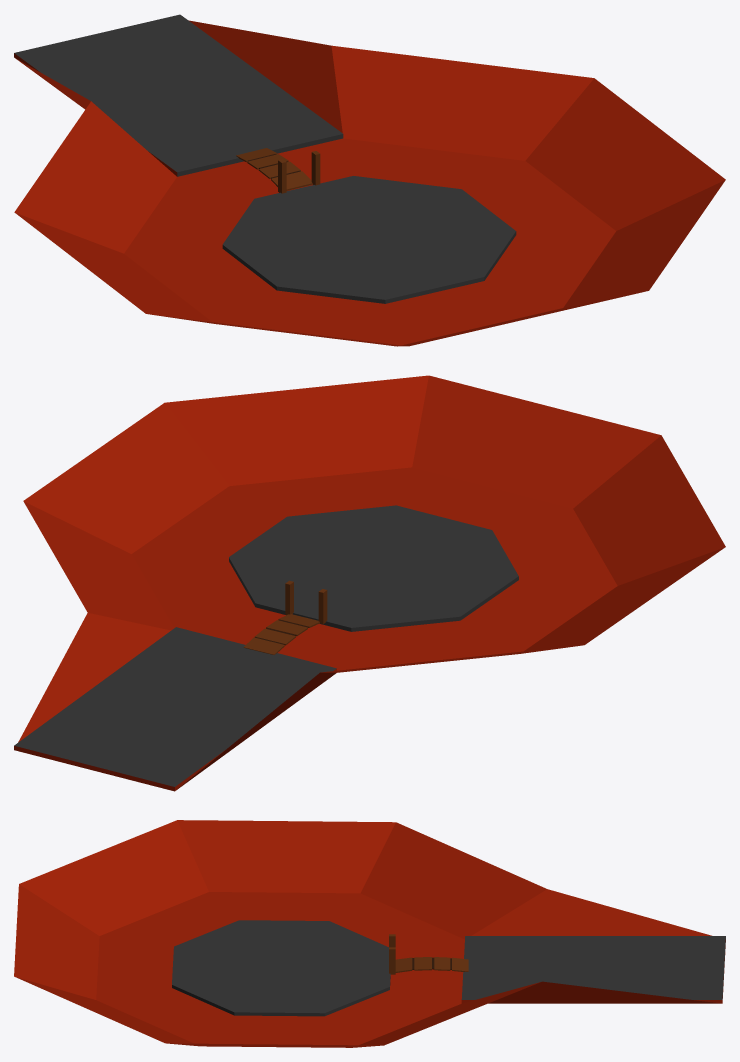
File: BossMap.fbx
The picture shows the model from 3 angles, top to bottom: view 1: azimuth 30°, elevation 25°; view 2: azimuth 150°, elevation 25°; view 3: azimuth 270°, elevation 25°; orthographic projection. The views are drawn at different scales.
Visible parts, largest first — view 1: Circle.001, Circle, Cube.001; view 2: Circle.001, Circle, Cube.001; view 3: Circle.001, Circle, Cube.001.
Boxes of the visible parts, box(x1,y1,x2,y2) form: Circle.001: box(14, 14, 725, 346); Circle: box(222, 176, 516, 303); Cube.001: box(236, 148, 320, 193); Circle.001: box(14, 375, 725, 791); Circle: box(229, 505, 518, 631); Cube.001: box(243, 580, 327, 654); Circle.001: box(14, 820, 725, 1047); Circle: box(172, 920, 390, 1016); Cube.001: box(389, 934, 468, 974).
Bounding box in the file's own units: 30.07 × 2.31 × 40.14.
